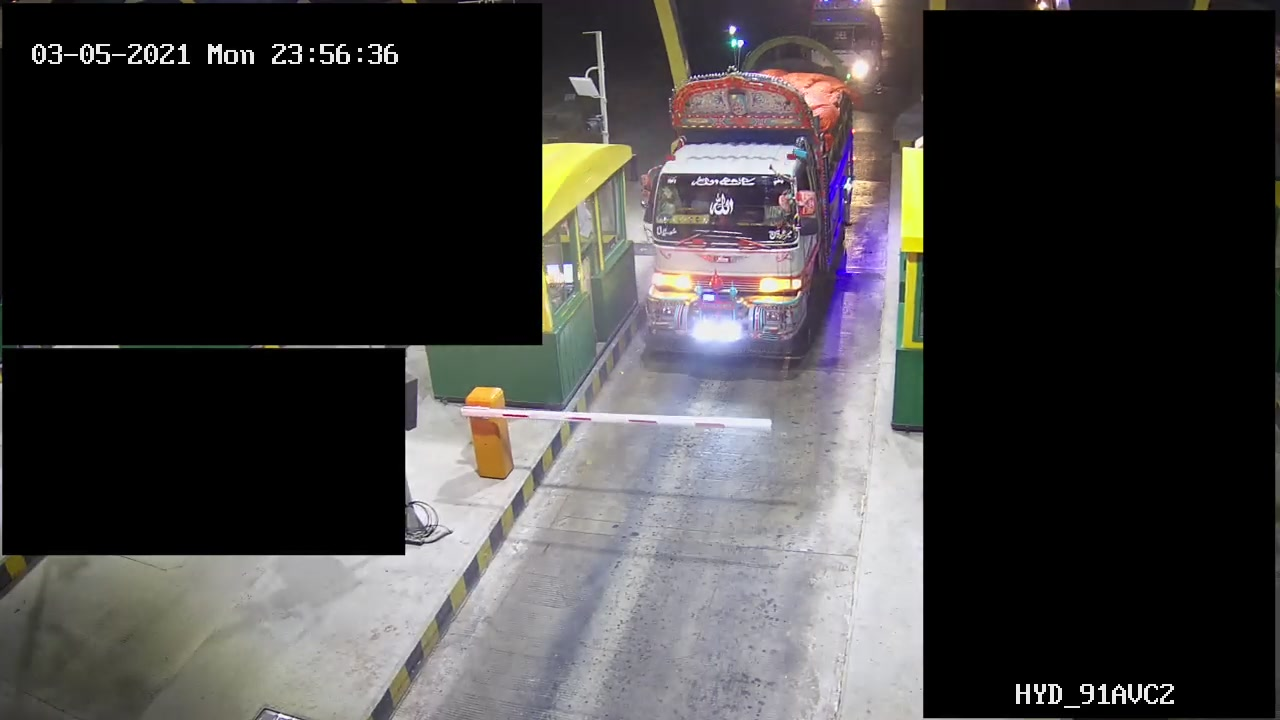F5: (633, 31, 858, 351)
